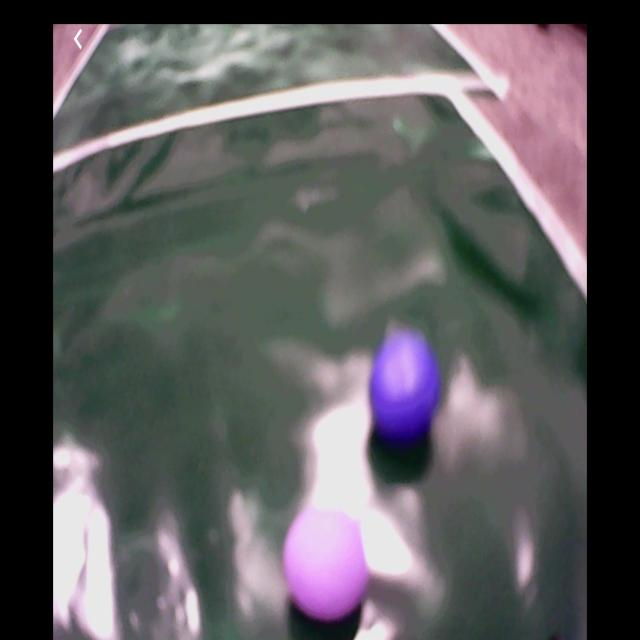ball: (284, 510, 367, 626), (370, 333, 440, 440)
